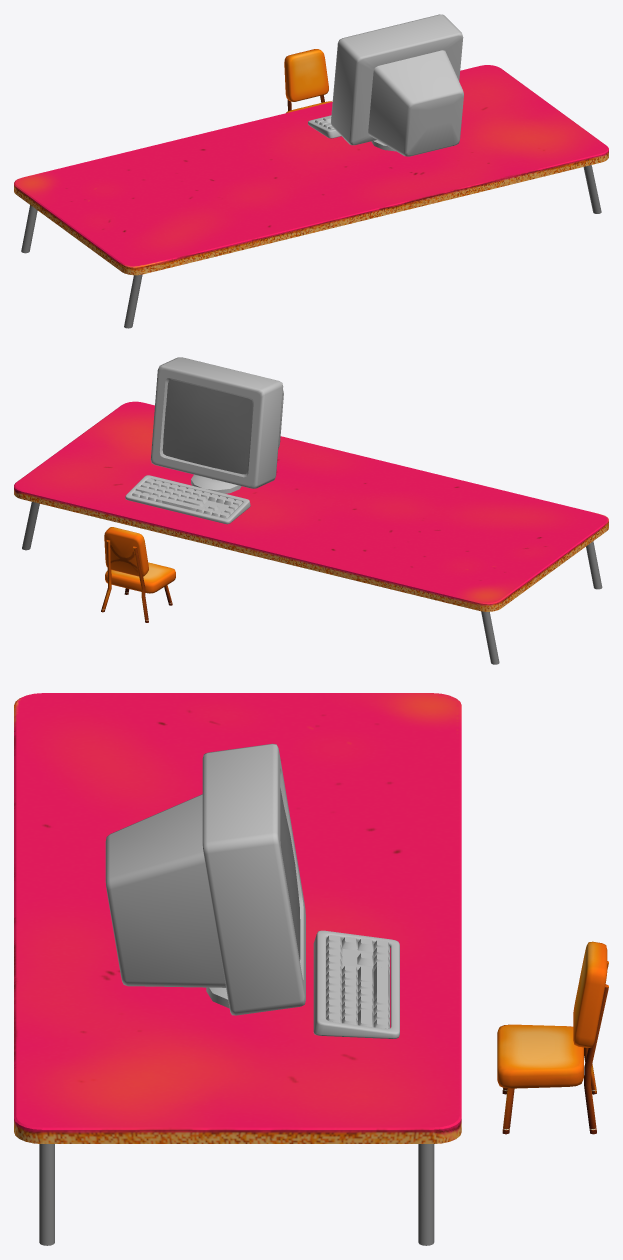
File: main_desk_01.FBX
3 views of the same model, one above another, from view 1: azimuth 30°, elevation 25°; view 2: azimuth 150°, elevation 25°; view 3: azimuth 270°, elevation 25° (orthographic). The views are drawn at different scales.
Parts seen in each view (by area): view 1: desk_main_01; view 2: desk_main_01; view 3: desk_main_01.
Boxes of the visible parts, x1,y1,x2,y2 form: desk_main_01: [14, 14, 608, 328]; desk_main_01: [14, 357, 608, 664]; desk_main_01: [14, 693, 608, 1245].
Bounding box in the file's own units: 362 × 125 × 209.
